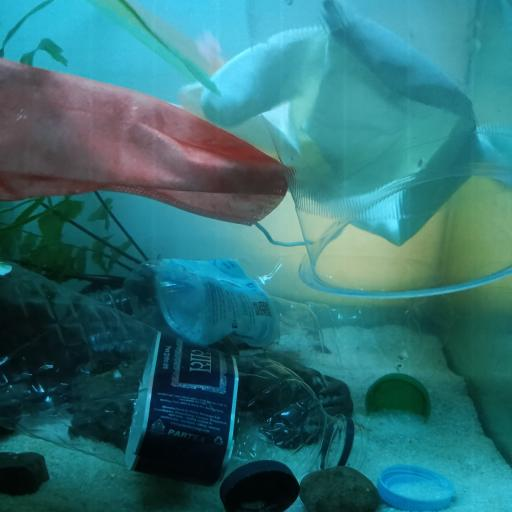bottle_cap: (376, 461, 456, 512), (220, 459, 296, 512), (363, 376, 432, 421)
glove: (200, 0, 485, 248)
mask: (0, 54, 308, 252)
plastic_bottle: (0, 256, 374, 482), (85, 253, 430, 378)
plastic_cup: (236, 0, 512, 302)
plastic_straw: (103, 0, 224, 95)
